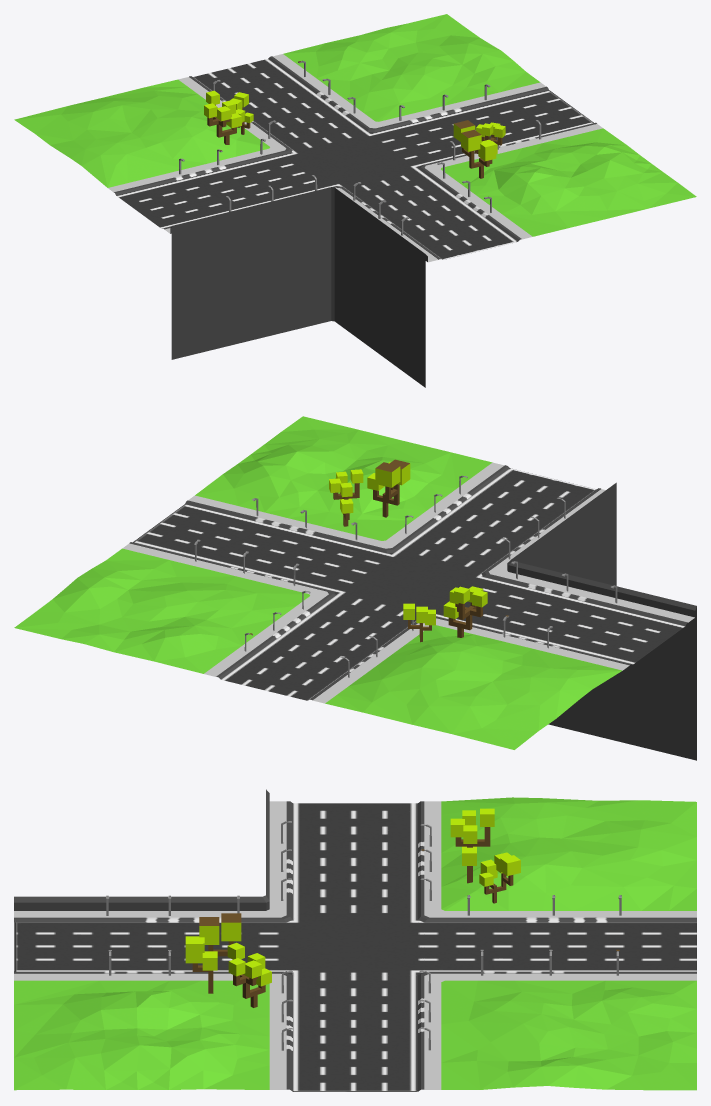
File: map5.fbx
3 views of the same model, one above another, from view 1: azimuth 30°, elevation 25°; view 2: azimuth 150°, elevation 25°; view 3: azimuth 270°, elevation 25° (orthographic). The views are drawn at different scales.
Visible parts, largest first — view 1: Circle.002; view 2: Circle.002; view 3: Circle.002.
Boxes of the visible parts, x1,y1,x2,y2 form: Circle.002: (14,14,696,387); Circle.002: (14,416,696,760); Circle.002: (14,789,696,1091).
Bounding box in the file's own units: 8000 × 3127 × 8000.
